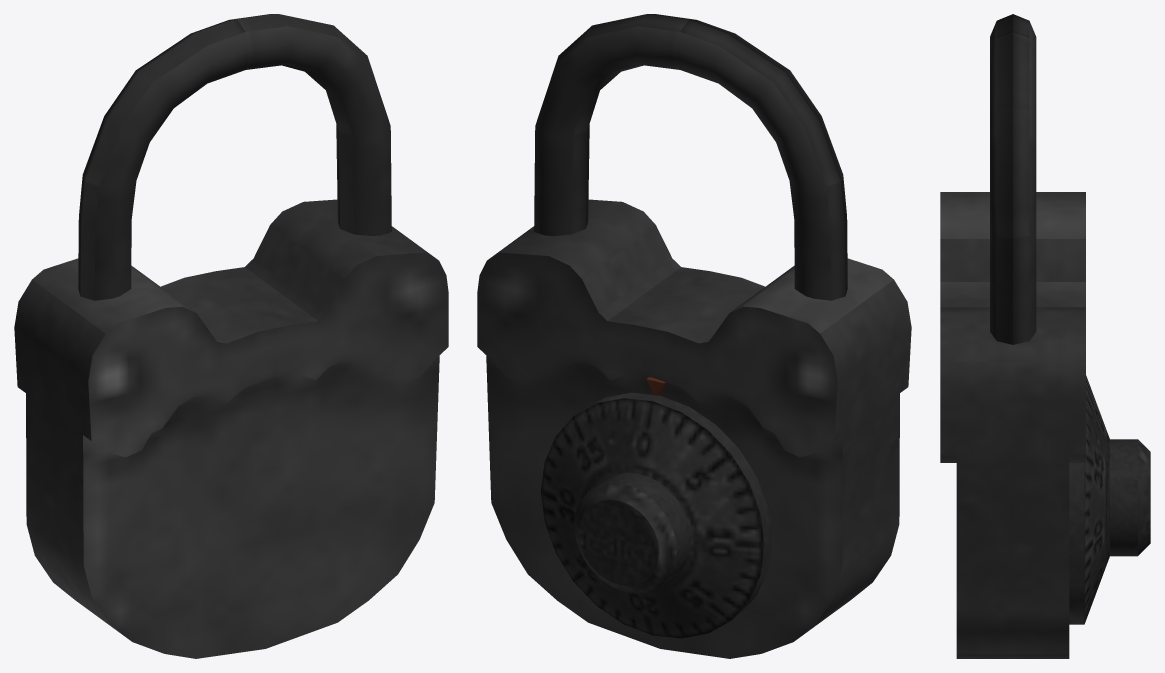
File: padlock_4.obj
3 views of the same model, side by side, from view 1: azimuth 30°, elevation 25°; view 2: azimuth 150°, elevation 25°; view 3: azimuth 270°, elevation 25° (orthographic).
Visible parts, largest first — view 1: padlock_4; view 2: padlock_4, knob_3; view 3: padlock_4, knob_3.
Part boxes in pixels (x1,y1,x2,y2): padlock_4: (14, 14, 448, 658); padlock_4: (477, 14, 911, 658); knob_3: (541, 392, 772, 638); padlock_4: (940, 14, 1085, 658); knob_3: (1069, 375, 1150, 624).
Size of the model in its own units: 0.0805 by 0.1299 by 0.0413.
